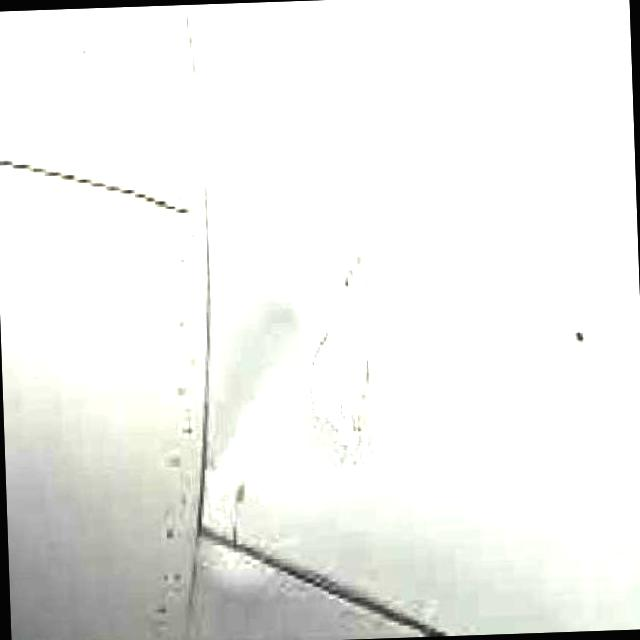dent: (198, 279, 321, 494), (300, 228, 402, 464)
